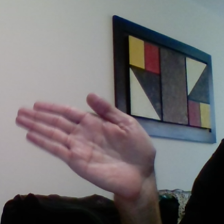left: (9, 89, 184, 199)
